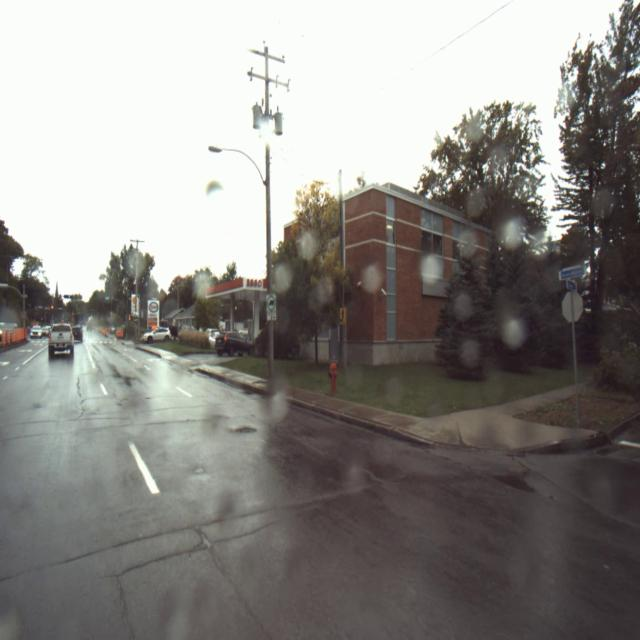car: (46, 323, 74, 360), (214, 331, 253, 357), (142, 327, 173, 342), (30, 324, 42, 339)
trafficLight: (50, 304, 54, 311)
trafficLight-Green: (105, 296, 111, 301), (67, 294, 72, 300)
